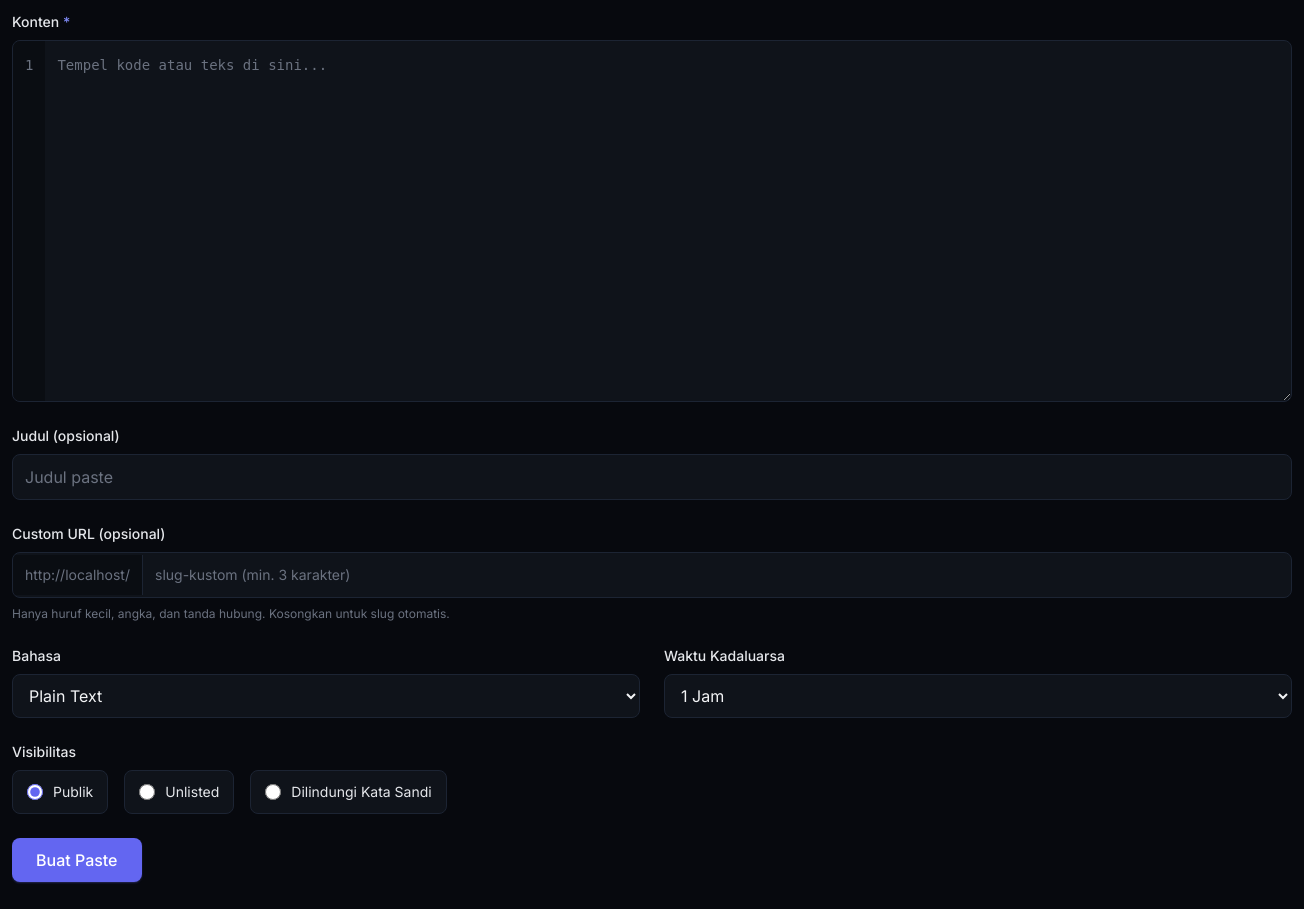
Scenario: PasteForm › shows the backend error message and preserves input on failure (Req 2.5)
Type "keep me" into the text box labelled "Konten *" at (668, 221), box [45, 41, 1291, 401]
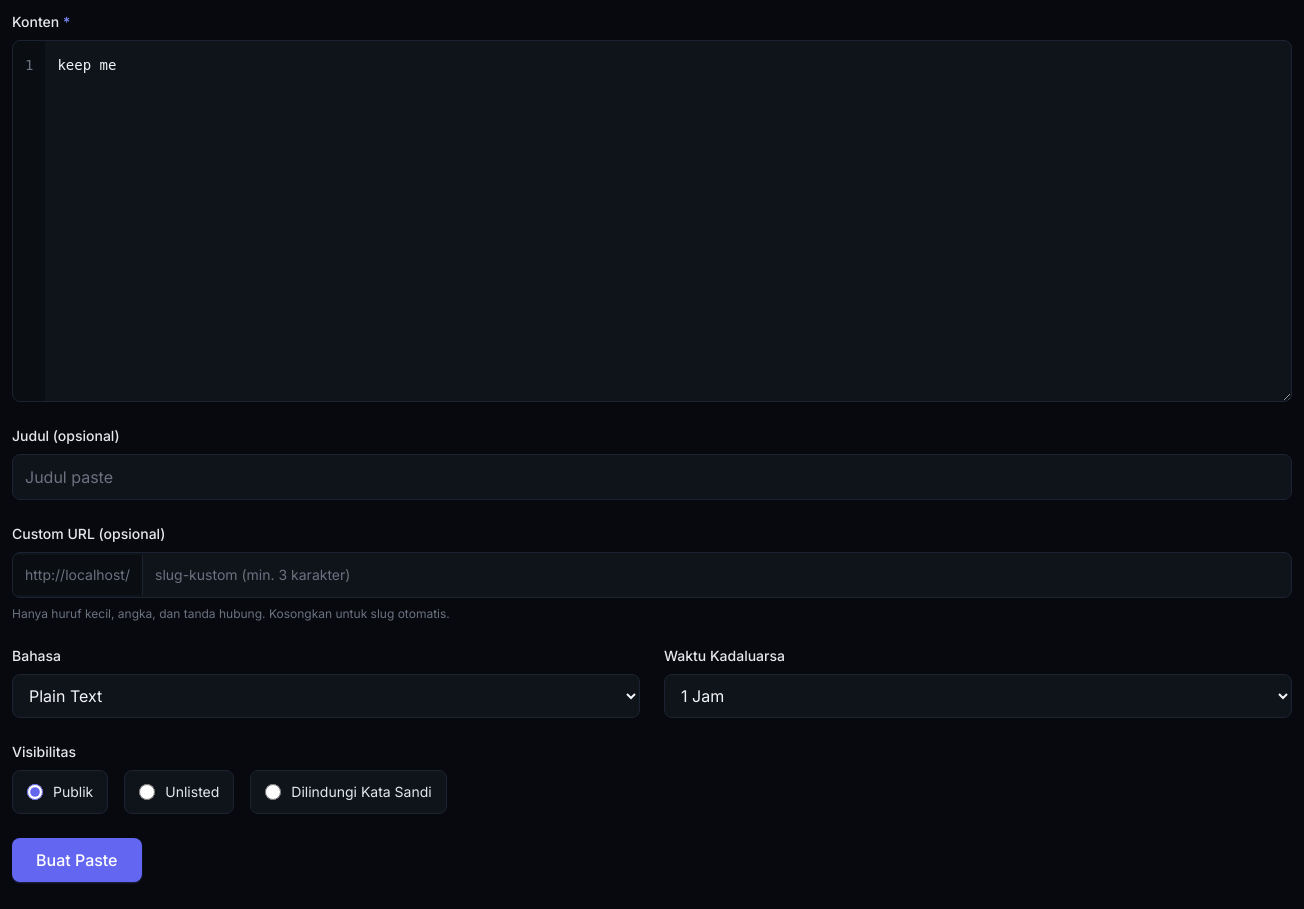
Submit the form from the button "Buat Paste", box [12, 838, 142, 882]
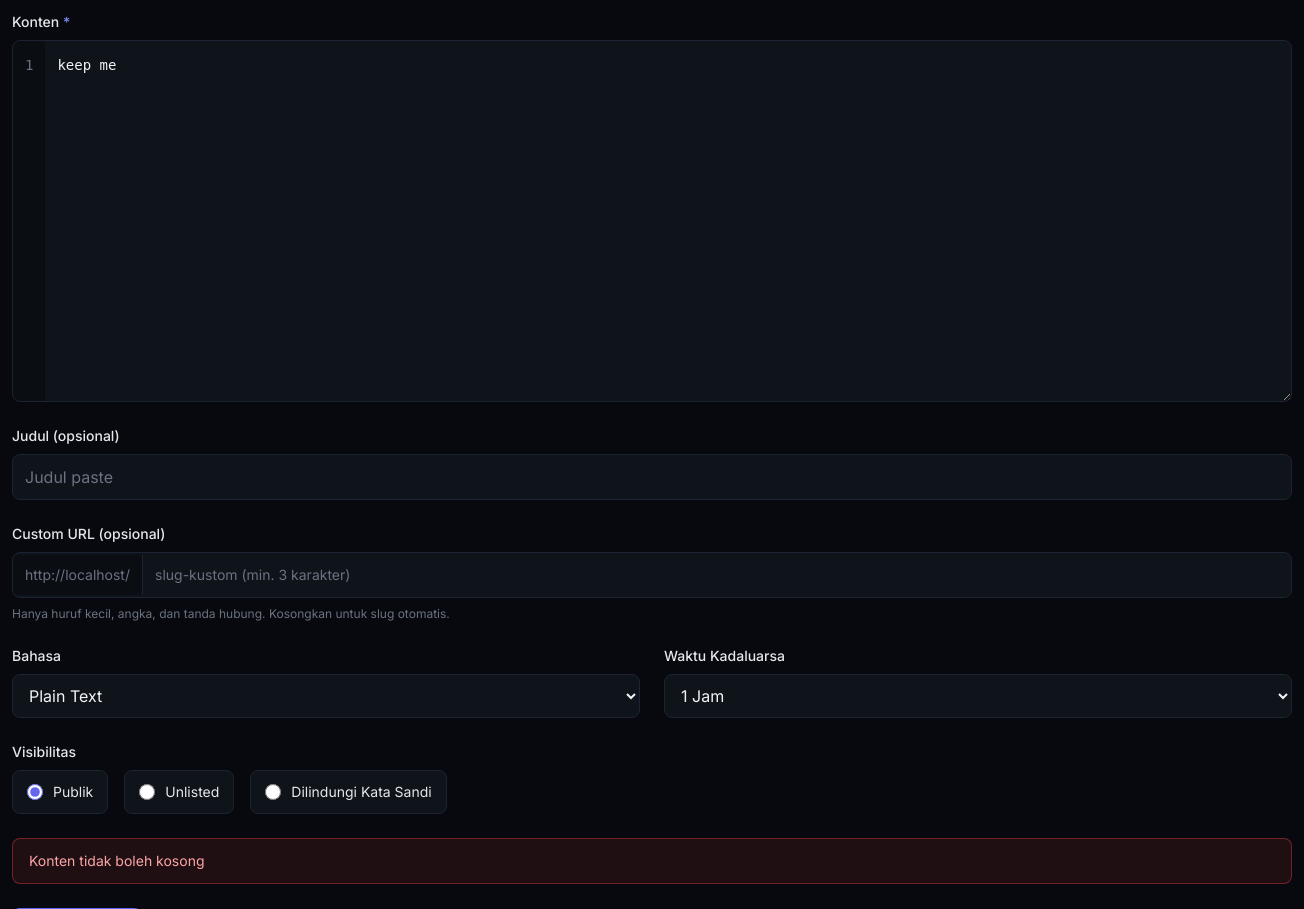
Result: the message reads "Konten tidak boleh kosong" at [29, 852, 204, 869]
